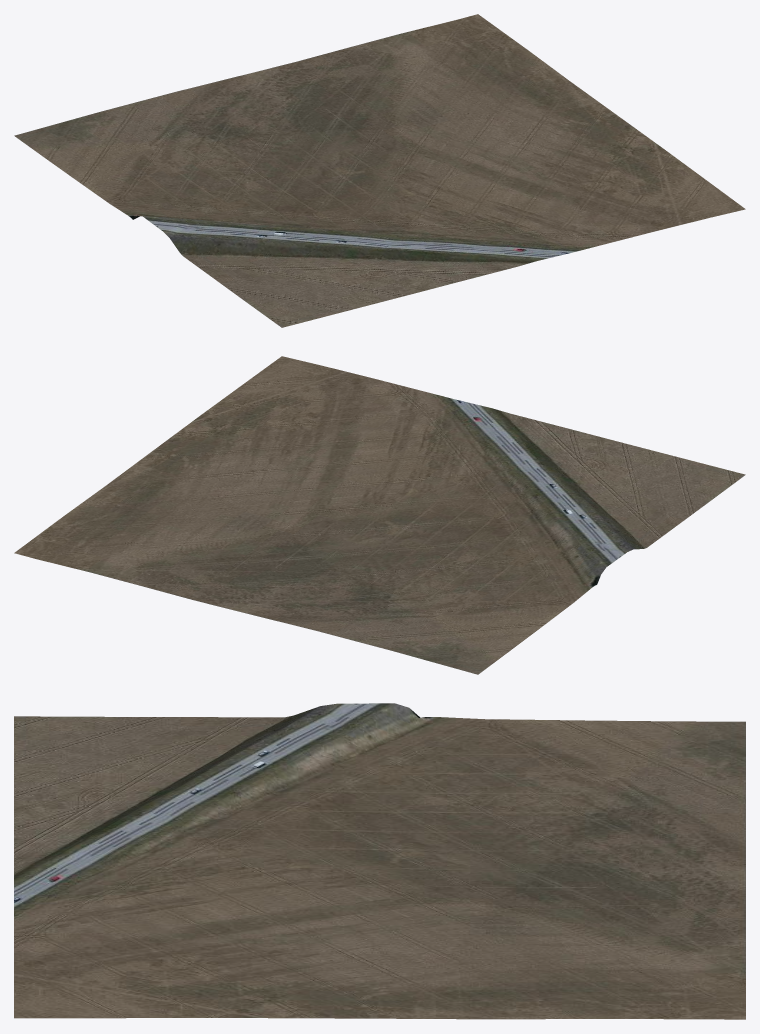
File: map_13_2042_3442.dae
3 renders of one model, top to bottom at view 1: azimuth 30°, elevation 25°; view 2: azimuth 150°, elevation 25°; view 3: azimuth 270°, elevation 25°, orthographic. The views are drawn at different scales.
Parts seen in each view (by area): view 1: Ter0; view 2: Ter0; view 3: Ter0.
Part boxes in pixels (x1,y1,x2,y2): Ter0: (14, 14, 745, 327); Ter0: (14, 356, 745, 674); Ter0: (14, 703, 745, 1019).
Bounding box in the file's own units: 256 × 256 × 7.1.
3 materials, 3 textured.
